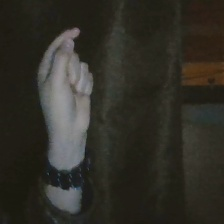T: (27, 21, 106, 153)
